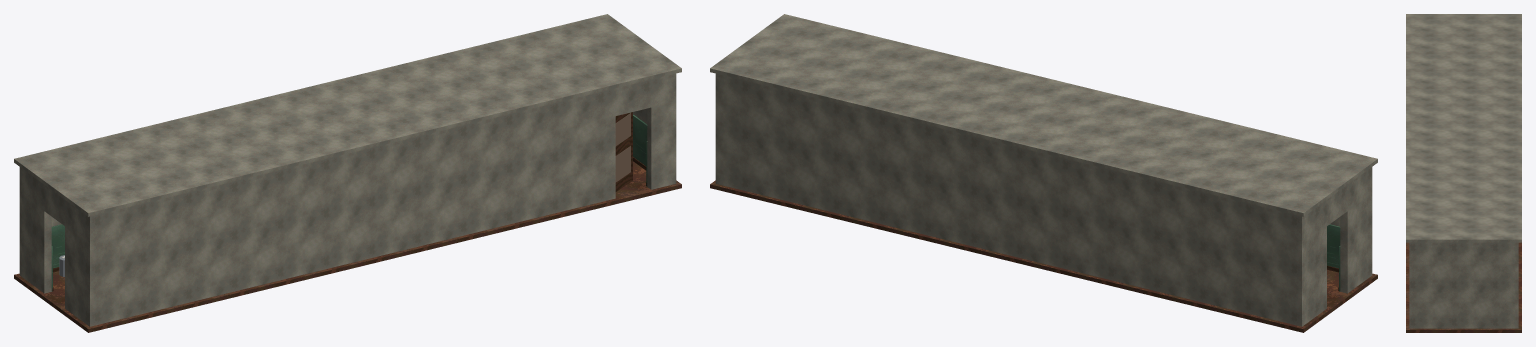
Rendered from ep_corredor.glb.
3 renders of one model, left to right at view 1: azimuth 30°, elevation 25°; view 2: azimuth 150°, elevation 25°; view 3: azimuth 270°, elevation 25°, orthographic. The views are drawn at different scales.
Parts seen in each view (by area): view 1: plaster-col, linoleum-col, paint_green, flat, wood_dark; view 2: plaster-col, linoleum-col, paint_green; view 3: plaster-col, linoleum-col.
Part boxes in pixels (<box>): plaster-col: <box>14,14,681,326</box>; linoleum-col: <box>14,161,681,332</box>; paint_green: <box>51,114,647,291</box>; flat: <box>615,113,630,182</box>; wood_dark: <box>52,112,647,291</box>; plaster-col: <box>710,14,1377,326</box>; linoleum-col: <box>710,180,1377,332</box>; paint_green: <box>1327,224,1340,291</box>; plaster-col: <box>1406,14,1521,328</box>; linoleum-col: <box>1406,242,1521,332</box>.
Size of the model in its own units: 16.6 by 3.2 by 3.6.
28 materials, 9 textured.
